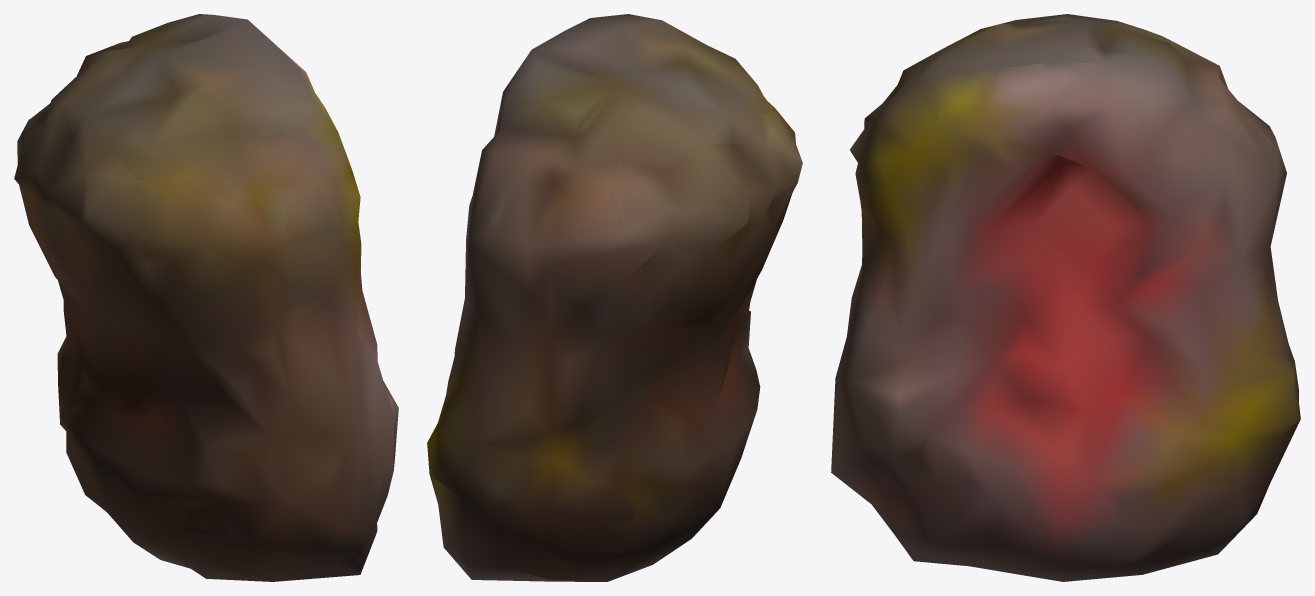
File: rune_crimson.glb
3 views of the same model, side by side, from view 1: azimuth 30°, elevation 25°; view 2: azimuth 150°, elevation 25°; view 3: azimuth 270°, elevation 25° (orthographic).
Visible parts, largest first — view 1: model; view 2: model; view 3: model.
Part boxes in pixels (<box>): model: <box>14,14,398,581</box>; model: <box>427,14,802,581</box>; model: <box>831,14,1300,581</box>.
Bounding box in the file's own units: 0.2408 × 0.3946 × 0.3302.
1 material, 1 textured.
